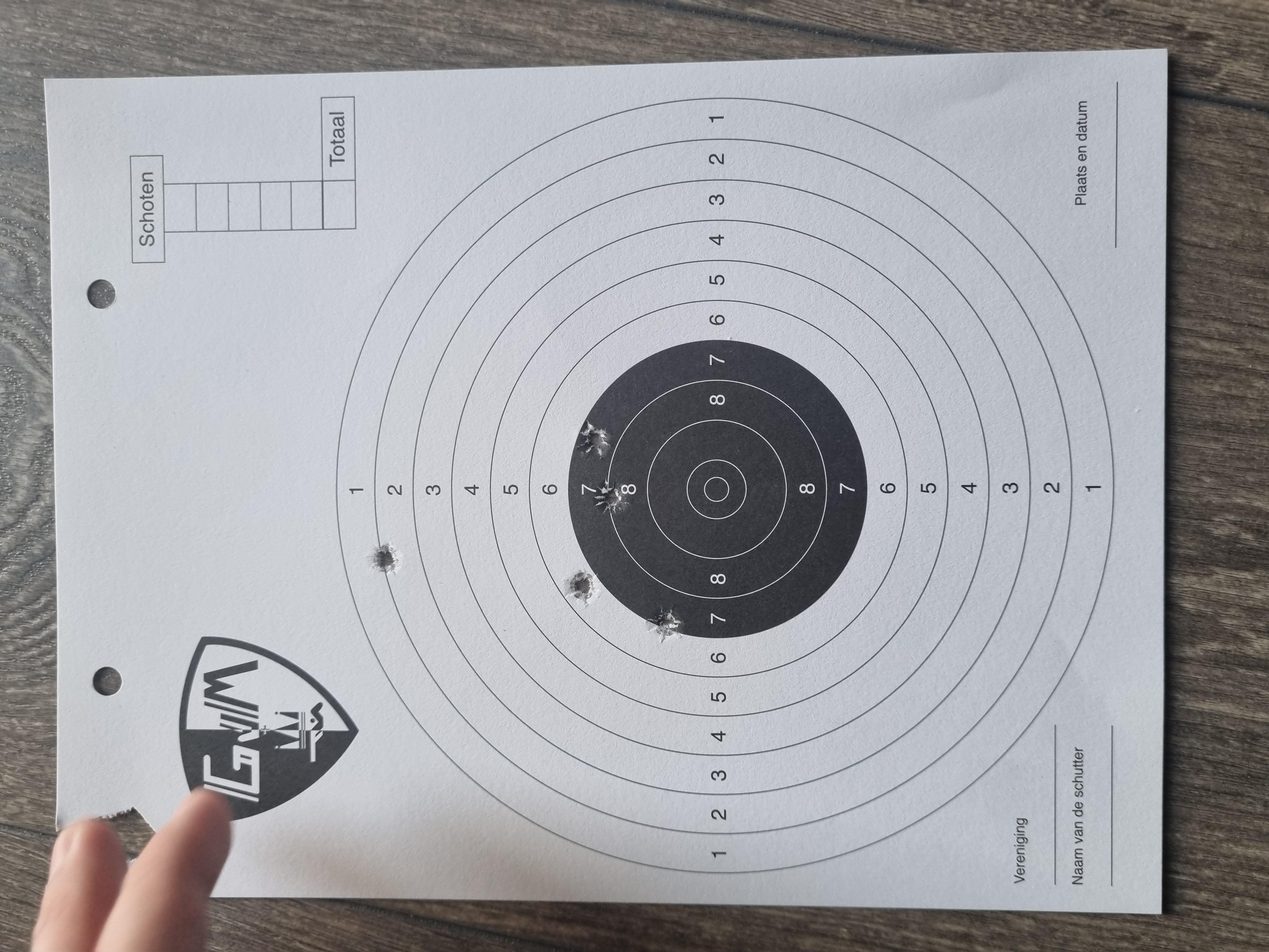hole: (412, 485, 461, 512), (658, 434, 707, 458), (459, 424, 509, 447), (583, 446, 629, 470), (503, 278, 545, 299)
